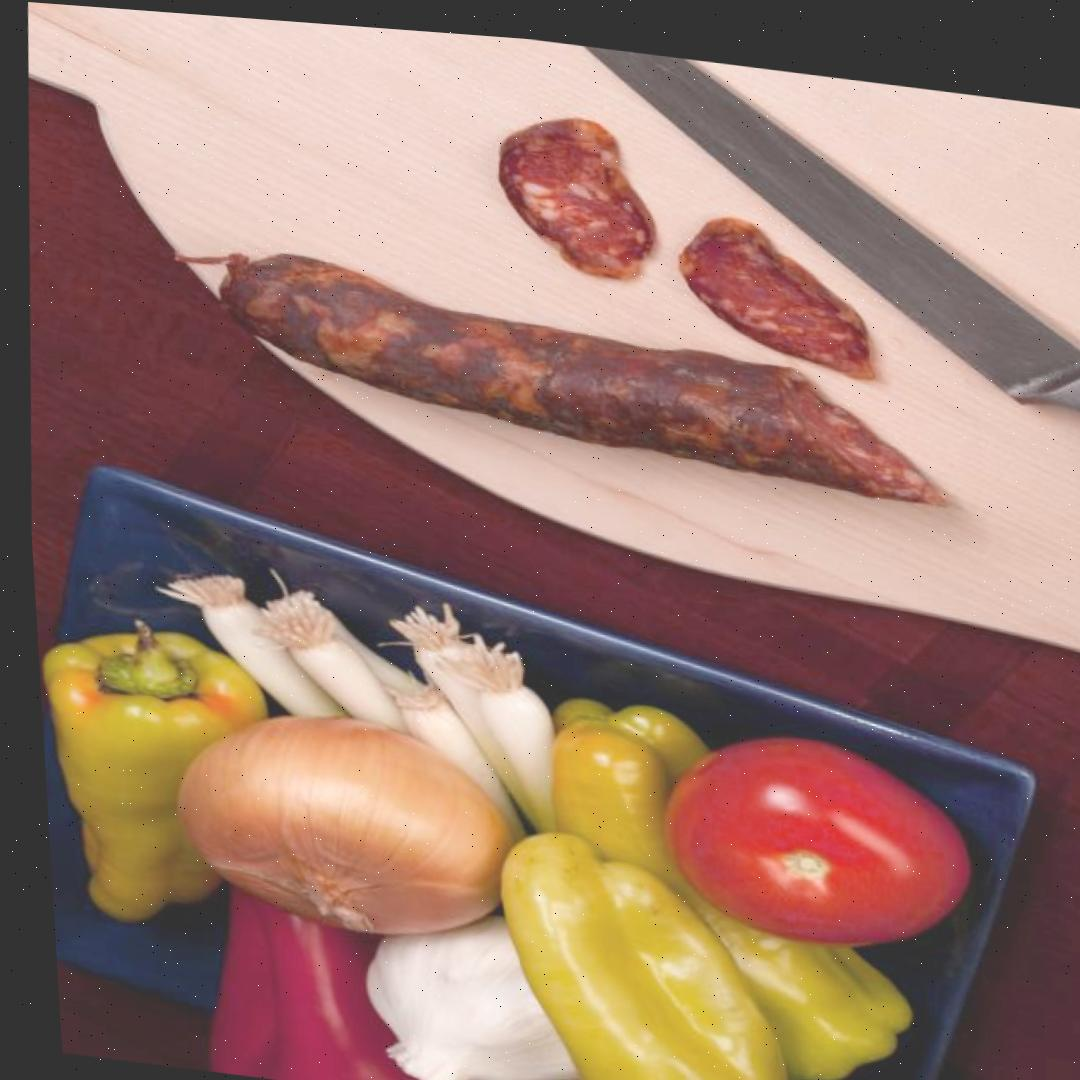matang: (653, 721, 983, 964)
